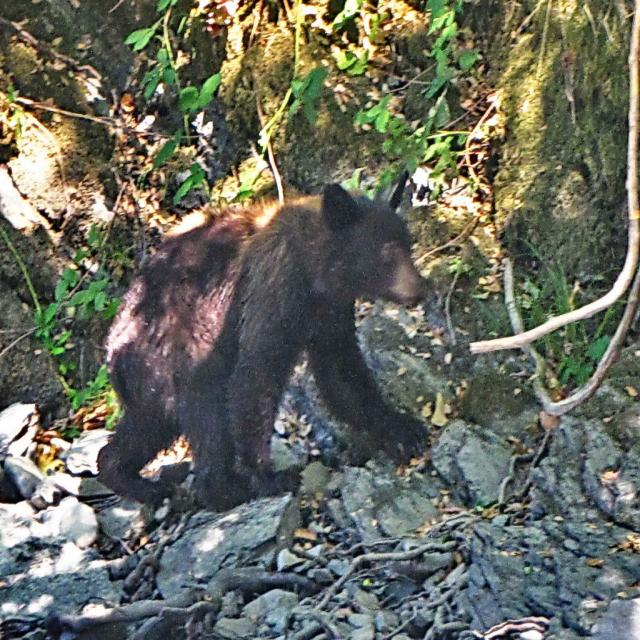Cheetahs: (94, 168, 430, 516)
